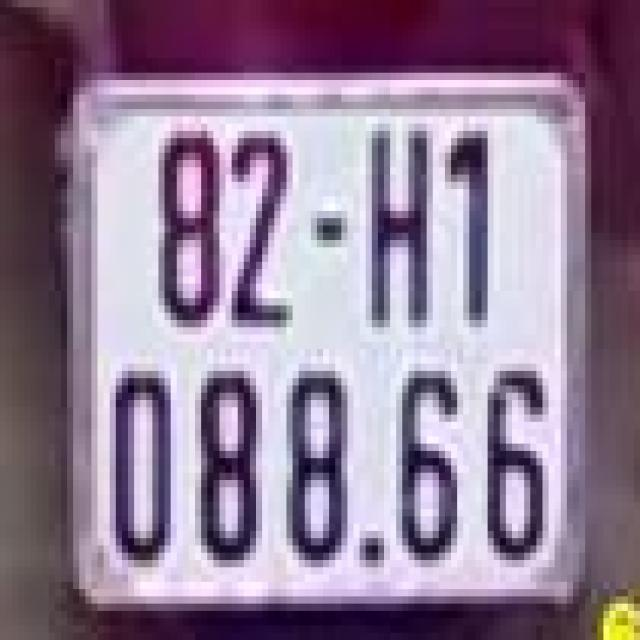0: (94, 357, 186, 568)
1: (439, 109, 506, 342)
2: (228, 120, 302, 345)
6: (478, 360, 552, 571), (393, 360, 460, 571)
8: (277, 364, 363, 567), (144, 120, 222, 338), (198, 367, 271, 564)
H: (359, 123, 438, 334)
